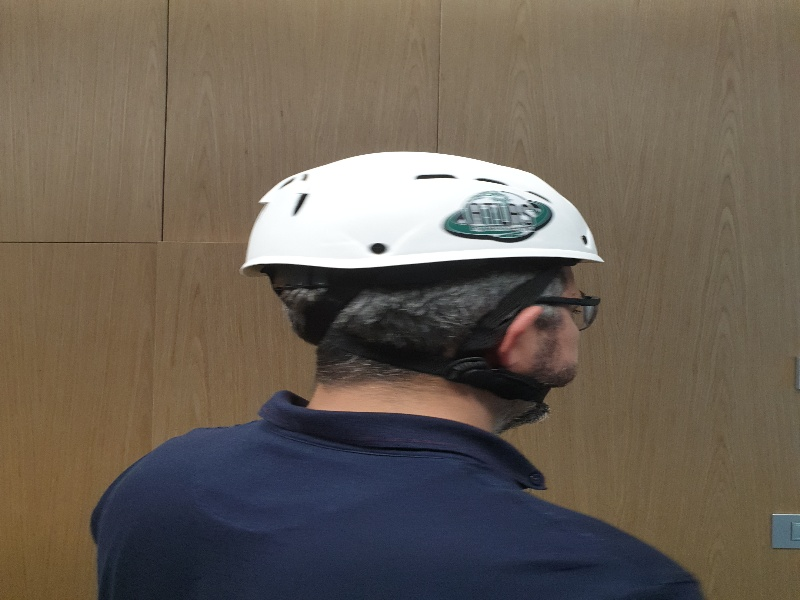Baret: (240, 152, 606, 267)
